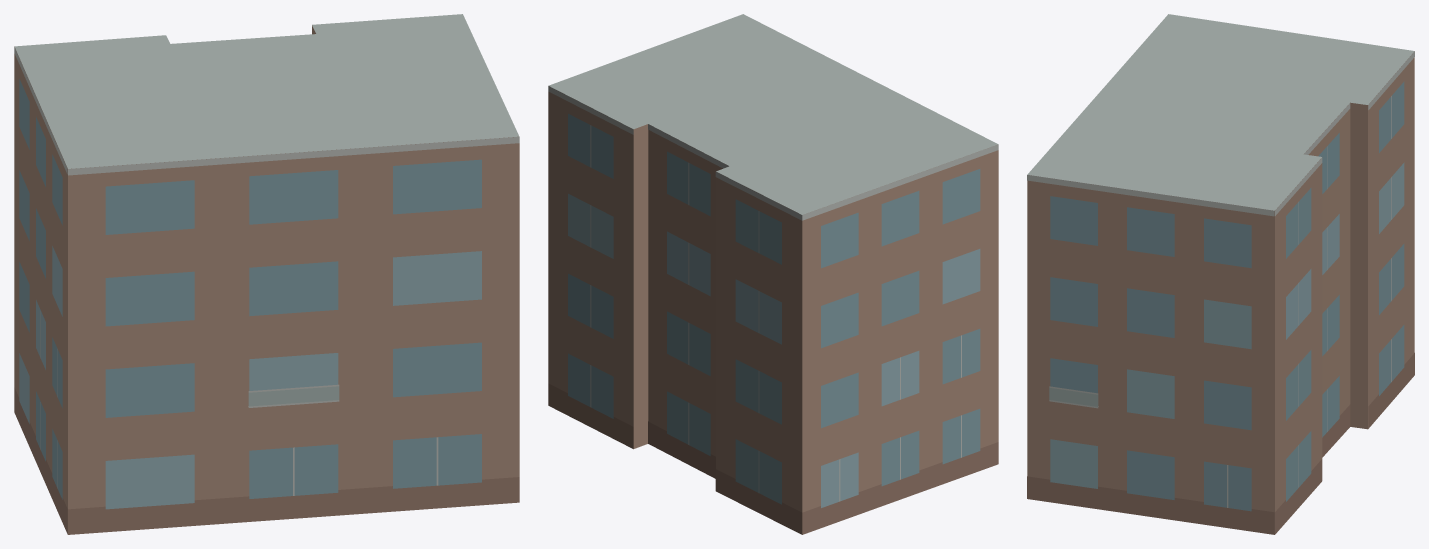
Rendered from survey-upis-32513439.glb.
3 renders of one model, left to right at view 1: azimuth 30°, elevation 25°; view 2: azimuth 150°, elevation 25°; view 3: azimuth 270°, elevation 25°, orthographic. The views are drawn at different scales.
Visible parts, largest first — view 1: survey-upis-32513439.tmp; view 2: survey-upis-32513439.tmp; view 3: survey-upis-32513439.tmp.
Part boxes in pixels (x1=…): survey-upis-32513439.tmp: x1=14, y1=14, x2=519, y2=534; survey-upis-32513439.tmp: x1=548, y1=14, x2=998, y2=534; survey-upis-32513439.tmp: x1=1027, y1=14, x2=1414, y2=534.
Bounding box in the file's own units: 17.84 × 13.7 × 14.86.
